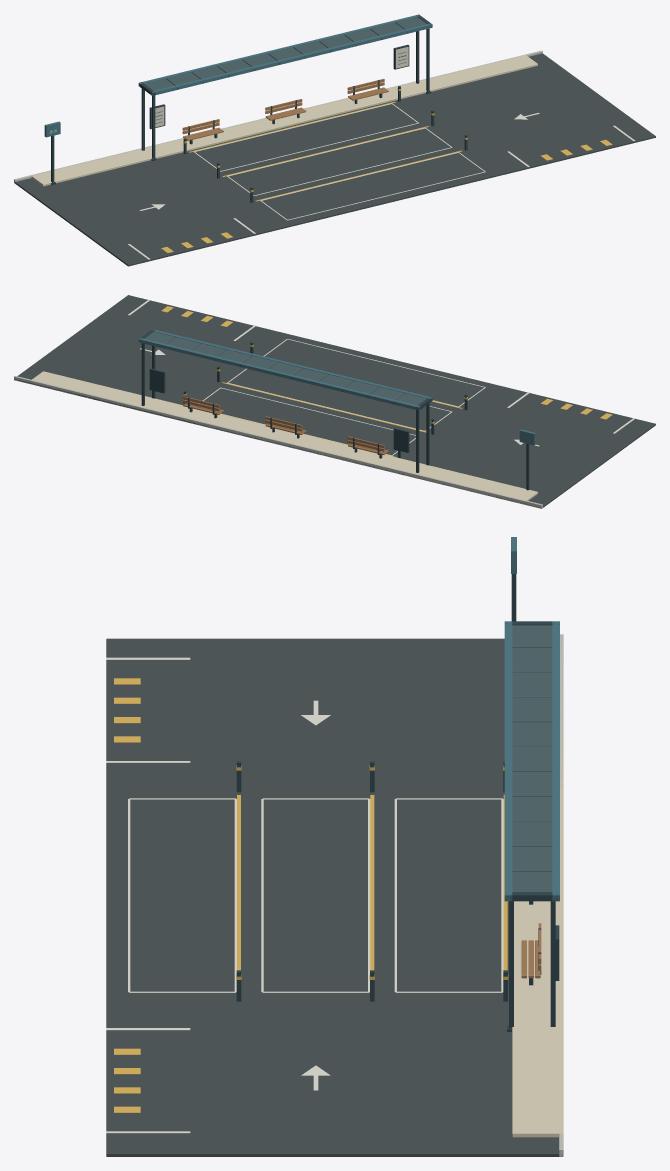
The model's file is bus-station-01.glb.
The picture shows the model from 3 angles, top to bottom: view 1: azimuth 30°, elevation 25°; view 2: azimuth 150°, elevation 25°; view 3: azimuth 270°, elevation 25°; orthographic projection. The views are drawn at different scales.
Parts seen in each view (by area): view 1: StationPaving, RearWaitingWalk, CanopyFascia, CanopyFascia.001, RearKerb; view 2: StationPaving, RearWaitingWalk, RearKerb, CanopyFascia.001, CanopyFascia, InformationCase.001, InformationCase, BusBaySafetyLine.001; view 3: StationPaving, RearWaitingWalk, CanopyFascia, CanopyFascia.001, CanopyPanel.002, CanopyPanel.003, CanopyPanel.008, CanopyPanel.009, CanopyPanel.001, CanopyPanel.004, CanopyPanel.005, CanopyPanel.006 (+3 smaller).
Boxes of the visible parts, x1,y1,x2,y2 form: StationPaving: (15, 53, 655, 266); RearWaitingWalk: (31, 55, 537, 186); CanopyFascia: (150, 23, 432, 95); CanopyFascia.001: (138, 14, 419, 86); RearKerb: (14, 50, 542, 183); StationPaving: (14, 295, 655, 507); RearWaitingWalk: (31, 371, 537, 500); RearKerb: (14, 376, 542, 508); CanopyFascia.001: (138, 338, 420, 410); CanopyFascia: (151, 329, 432, 400); InformationCase.001: (149, 368, 165, 393); InformationCase: (393, 428, 409, 452); BusBaySafetyLine.001: (222, 382, 426, 432); StationPaving: (106, 638, 562, 1156); RearWaitingWalk: (512, 652, 563, 1137); CanopyFascia: (504, 621, 512, 901); CanopyFascia.001: (552, 621, 559, 901); CanopyPanel.002: (512, 672, 552, 697); CanopyPanel.003: (512, 697, 552, 722); CanopyPanel.008: (512, 821, 552, 846); CanopyPanel.009: (512, 846, 552, 871); CanopyPanel.001: (512, 647, 552, 672); CanopyPanel.004: (512, 722, 552, 746); CanopyPanel.005: (512, 747, 552, 771); CanopyPanel.006: (512, 772, 552, 796).
Size of the model in its own units: 32 by 4.09 by 12.
